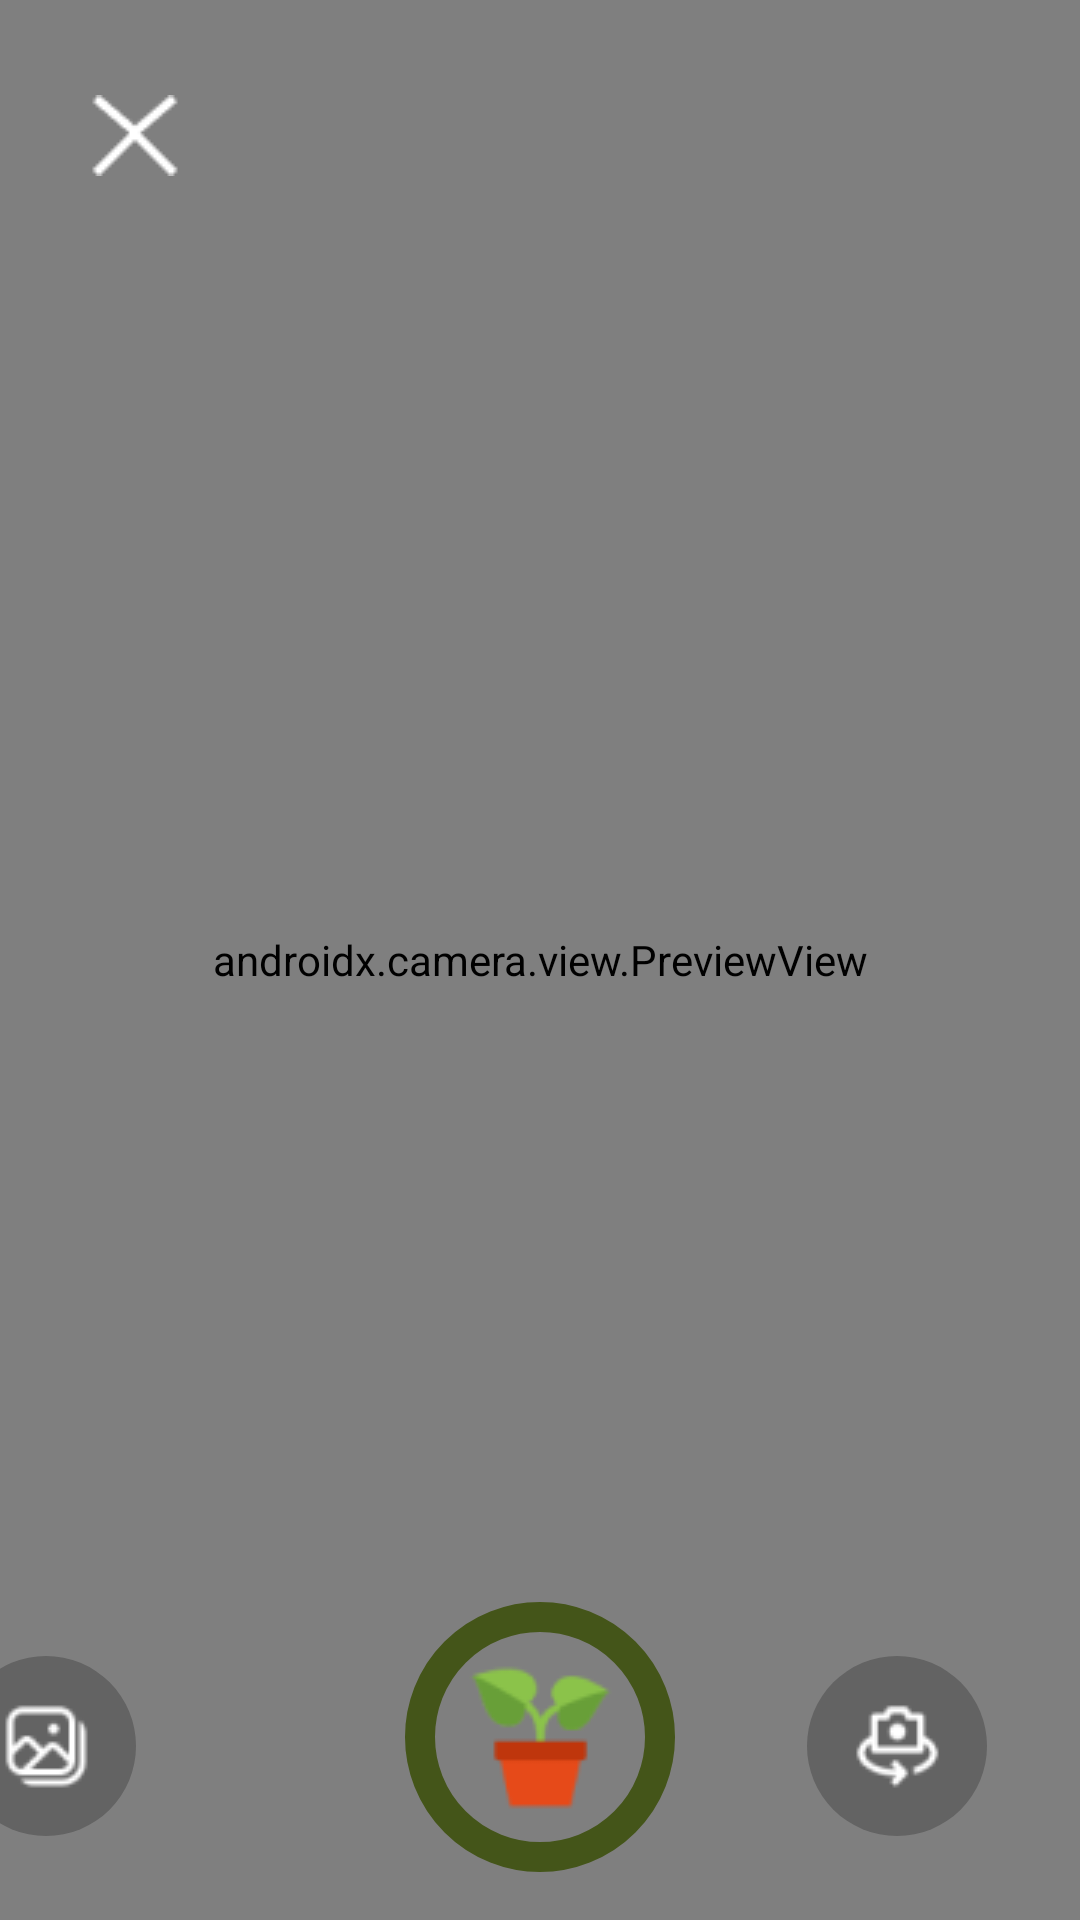

Point at icon controls on the screen. Image size 1080*1920, points as (x=x, y=y).
cancel: (x=135, y=135)
plant: (x=540, y=1737)
switch camera: (x=897, y=1746)
